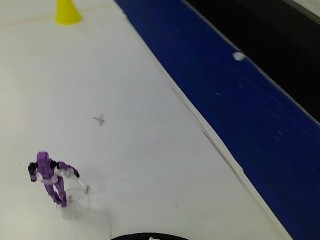cone: (51, 0, 81, 32)
pedestrian: (18, 142, 80, 212)
